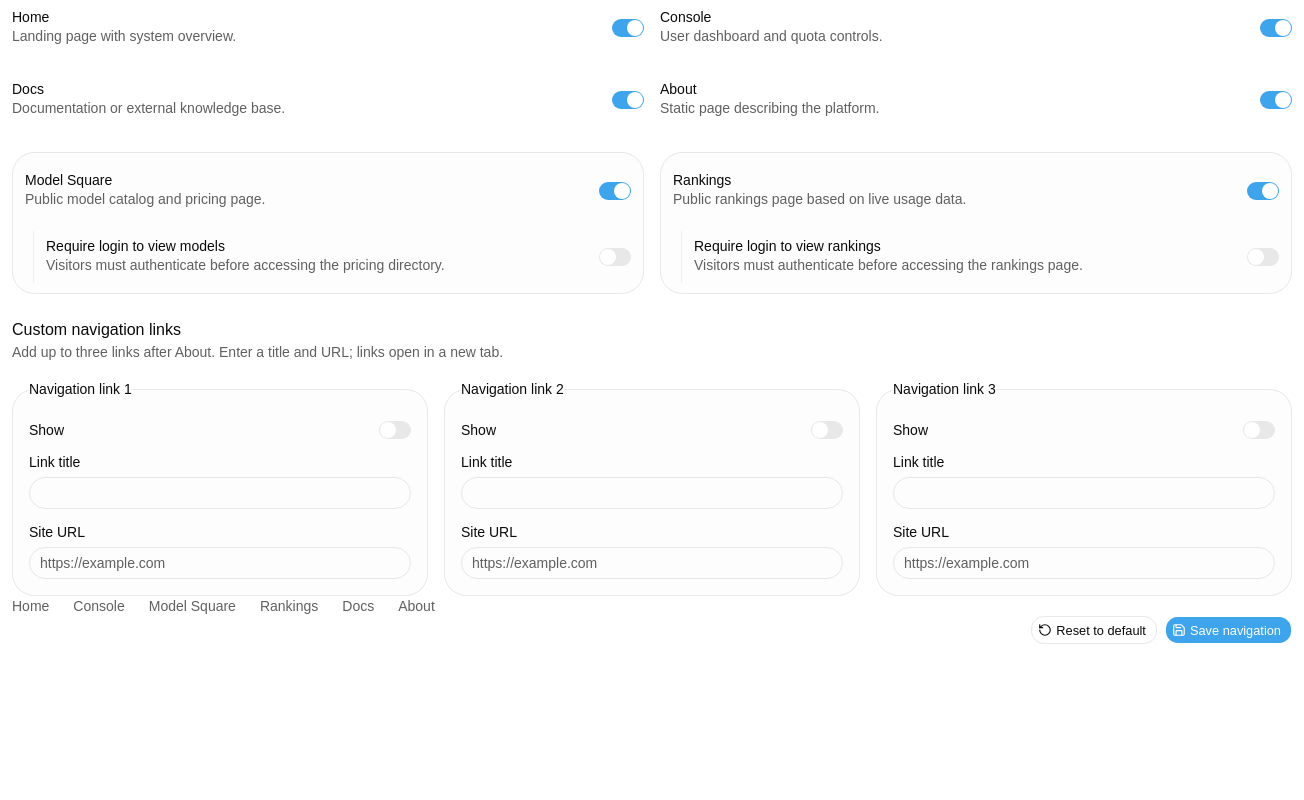
Test: header sponsor settings › unsafe URLs are rejected even on a disabled slot
In the field labelled "Site URL" below "Navigation link 2": (652, 563) [461,547,843,579], type "javascript:alert(1)"
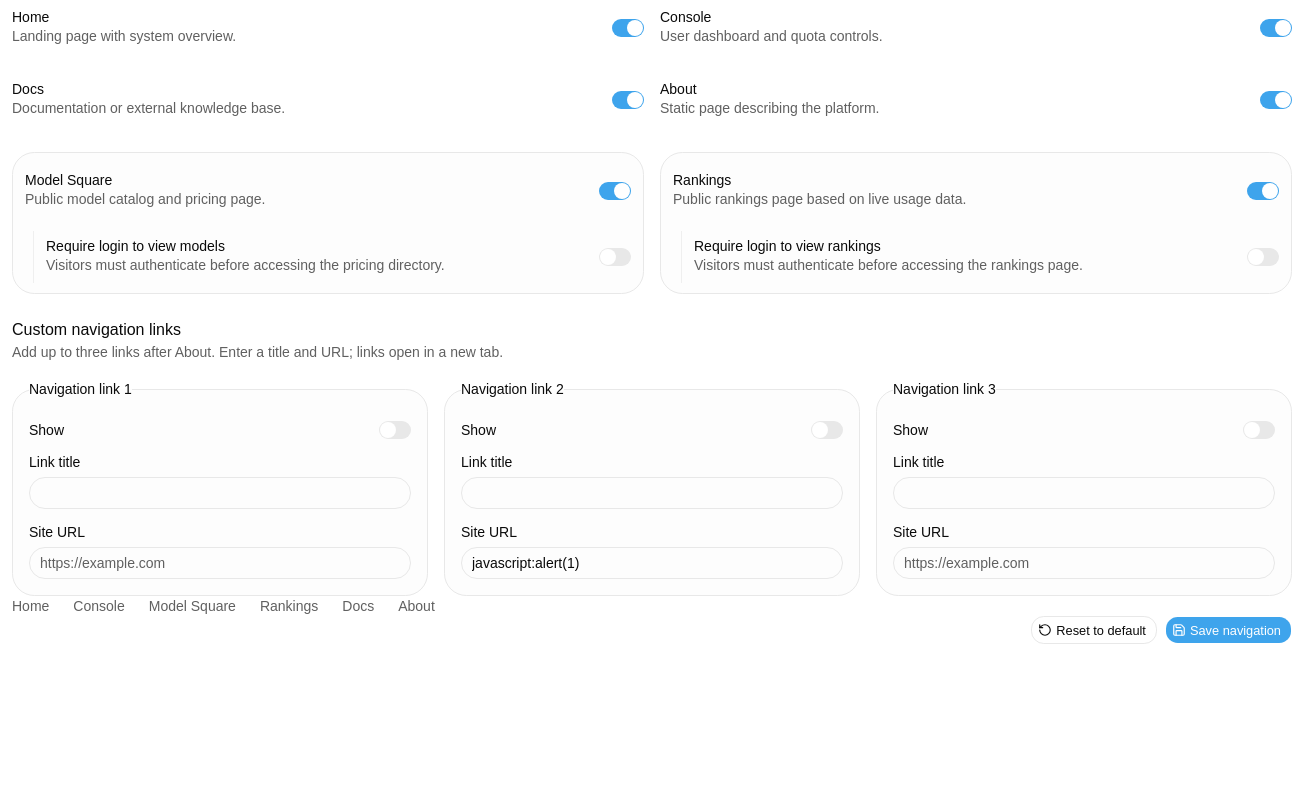
Click the button "Save navigation": click(1228, 630) [1165,616,1292,644]
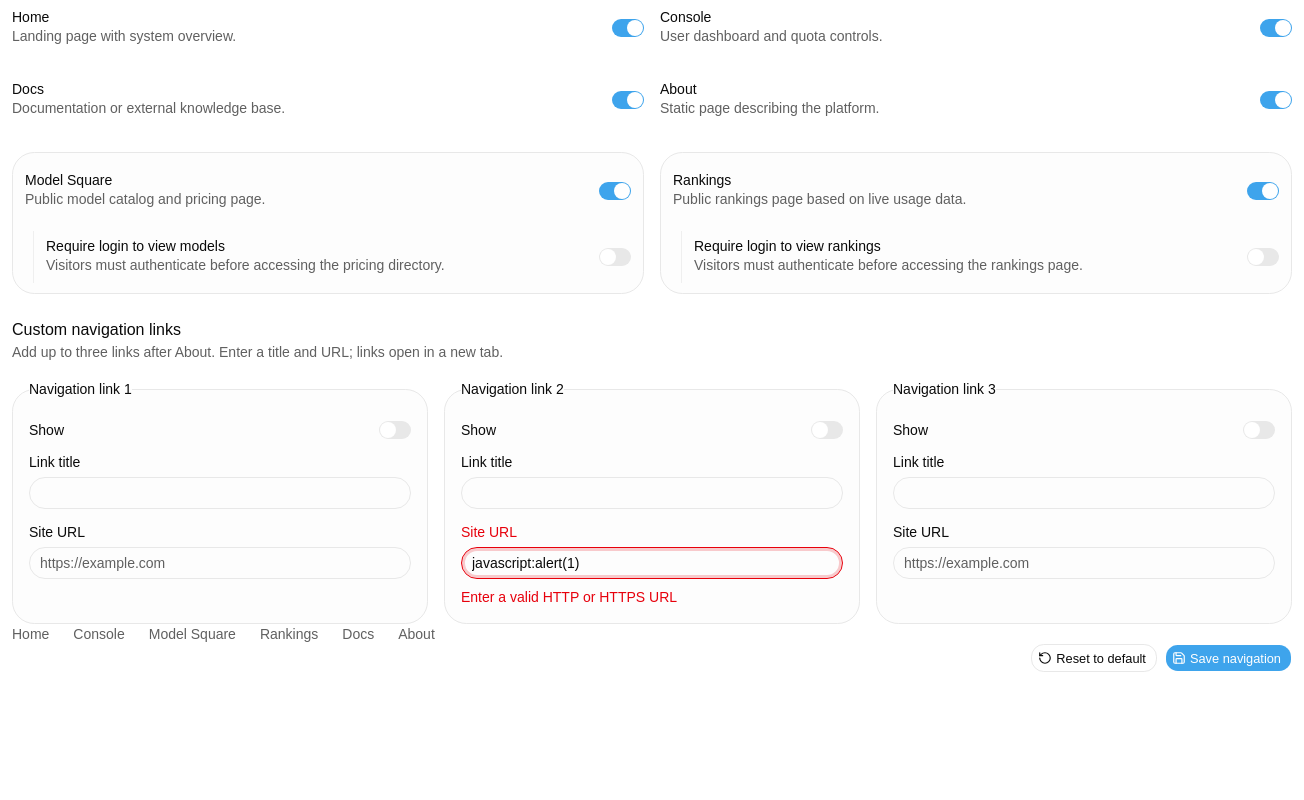
Expected: the text "Enter a valid HTTP or HTTPS URL" is shown once, [461,589,677,605]
